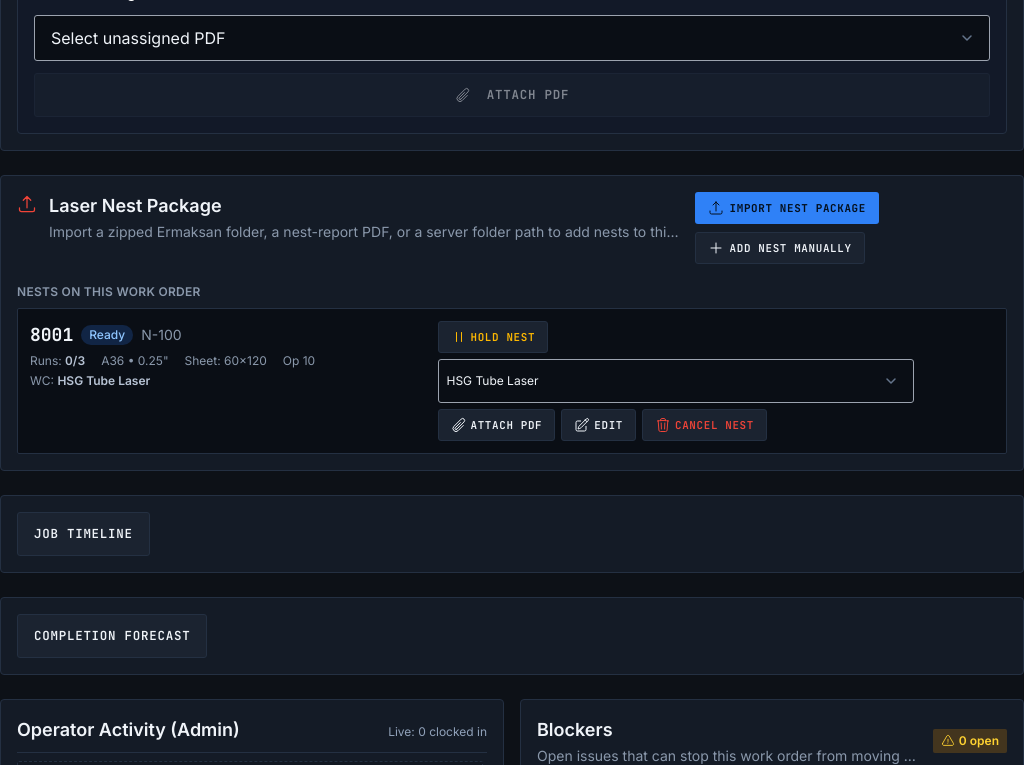
Scenario: per-nest work-center reassign › surfaces an in-progress refusal verbatim and snaps back to the server value
The width and height of the screenshot is (1024, 765).
(page scrolled)
Select "Ermaksan Fiber Laser" in the dropdown named "Work center for 8001": x=676, y=381 x1=438 y1=359 x2=914 y2=403
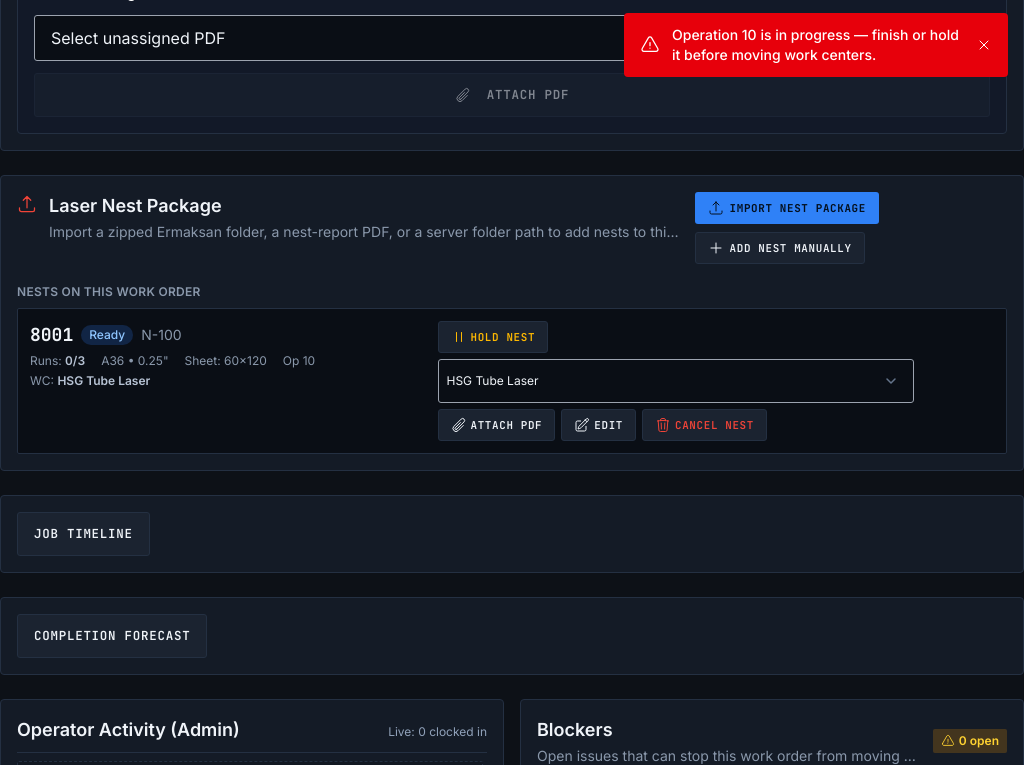
Expected: the text "Operation 10 is in progress — finish or hold it before moving work centers." is shown, x1=672 y1=25 x2=964 y2=65
